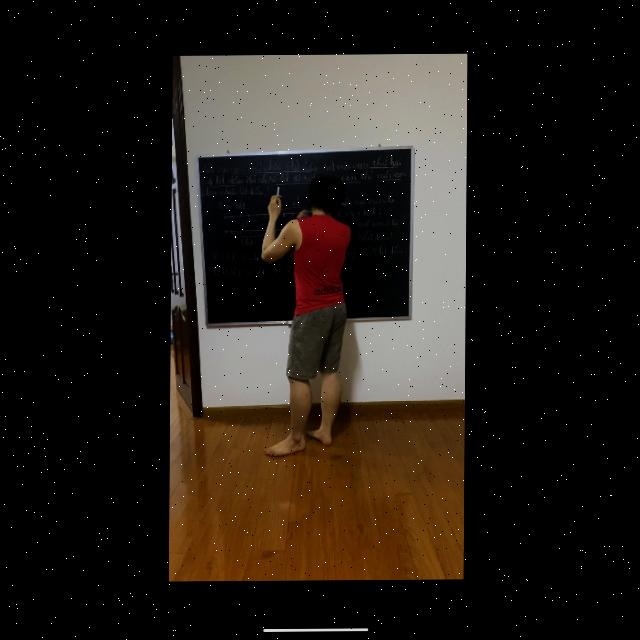cigarette: (276, 187, 279, 201)
